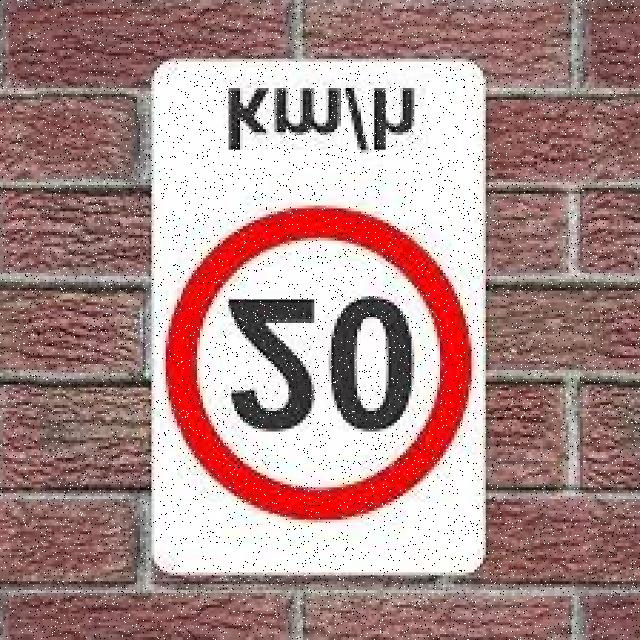speed_limit_20: (154, 203, 475, 538)
